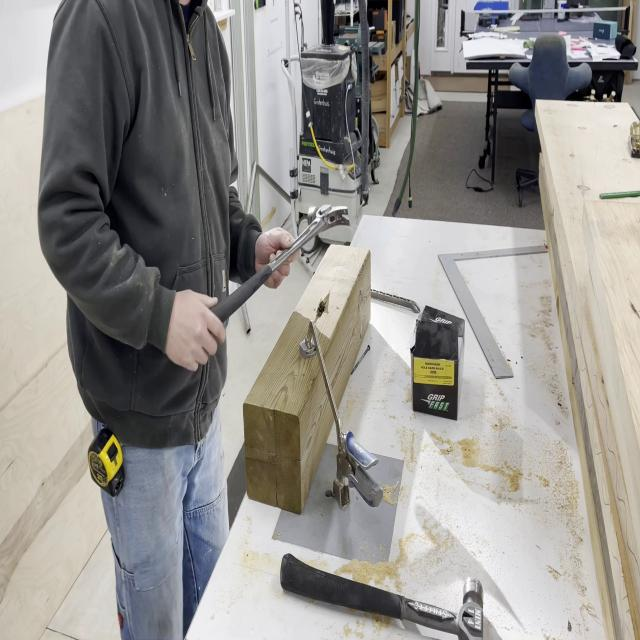hammer: (208, 204, 349, 333), (280, 551, 483, 640)
